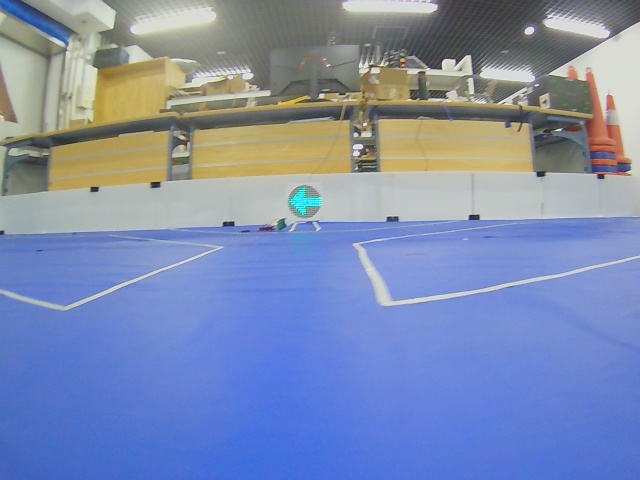left_green: (288, 185, 322, 219)
